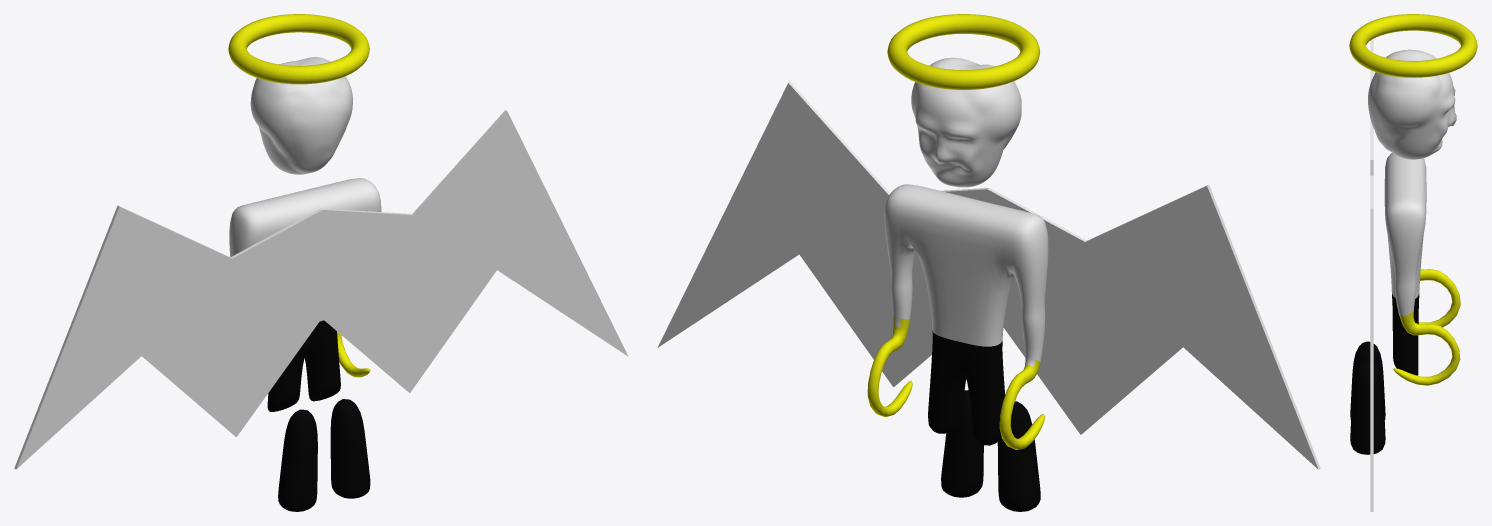
The model's file is PutinNeo.fbx.
The picture shows the model from 3 angles, left to right: view 1: azimuth 30°, elevation 25°; view 2: azimuth 150°, elevation 25°; view 3: azimuth 270°, elevation 25°; orthographic projection. The views are drawn at different scales.
Visible parts, largest first — view 1: Cube.001; view 2: Cube.001; view 3: Cube.001.
Boxes of the visible parts, left/top/right/bottom form: Cube.001: left=14, top=14, right=628, bottom=511; Cube.001: left=657, top=14, right=1320, bottom=511; Cube.001: left=1349, top=14, right=1477, bottom=511.
Bounding box in the file's own units: 1149 × 794 × 230.
